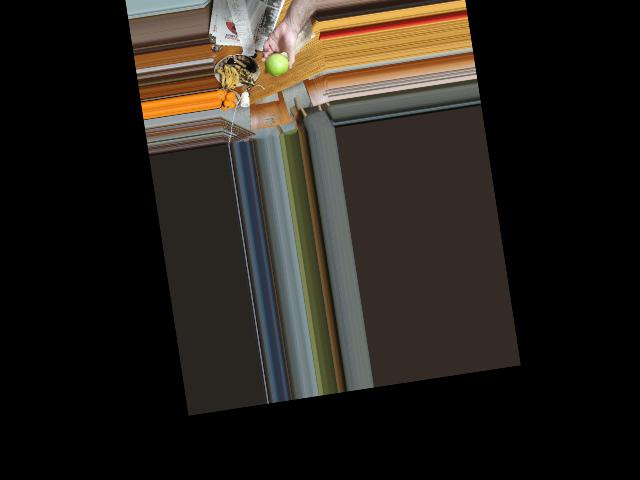apple: (263, 48, 292, 79)
